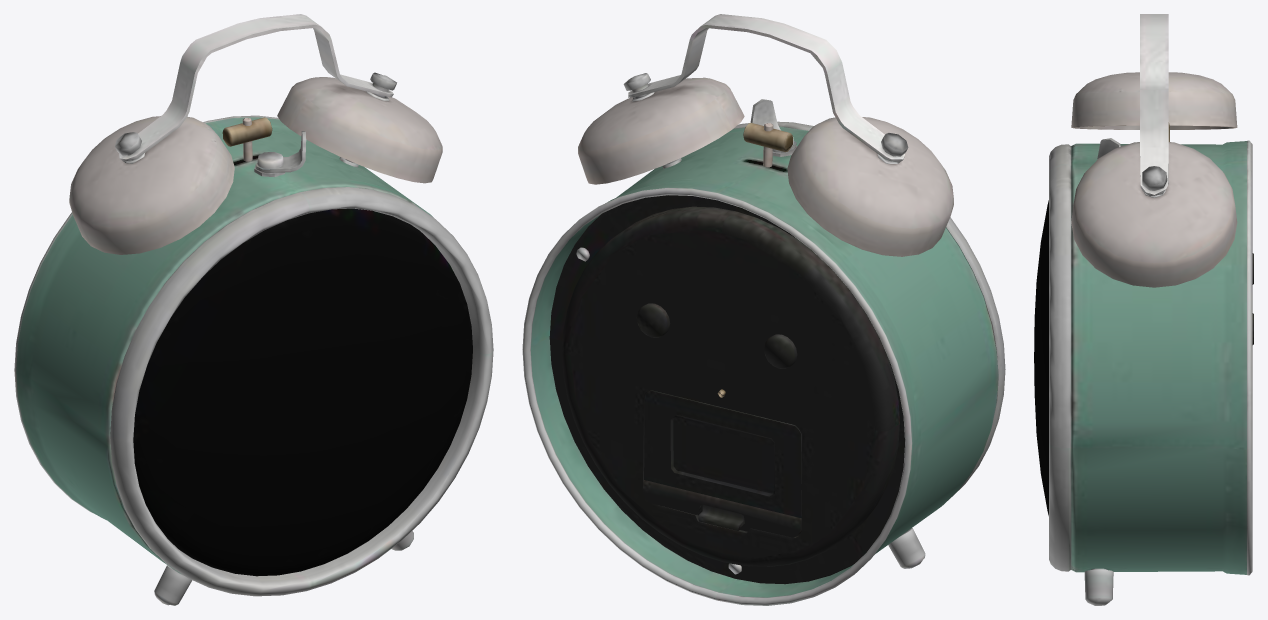
The model's file is alarm_clock.glb.
The picture shows the model from 3 angles, left to right: view 1: azimuth 30°, elevation 25°; view 2: azimuth 150°, elevation 25°; view 3: azimuth 270°, elevation 25°; orthographic projection. The views are drawn at different scales.
Parts seen in each view (by area): view 1: alarm_clock_01; view 2: alarm_clock_01; view 3: alarm_clock_01.
Boxes of the visible parts, x1,y1,x2,y2 form: alarm_clock_01: (14,14,493,605); alarm_clock_01: (522,14,1005,605); alarm_clock_01: (1034,14,1253,605).
Size of the model in its own units: 0.1317 by 0.1741 by 0.0664.
2 materials, 2 textured.
